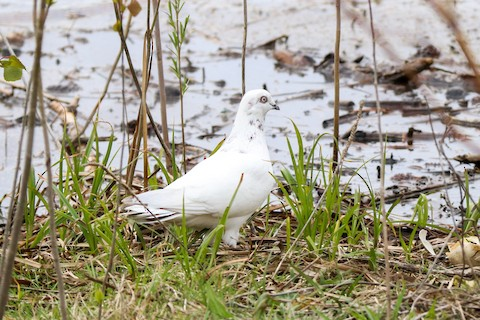pigeon: (112, 84, 283, 262)
